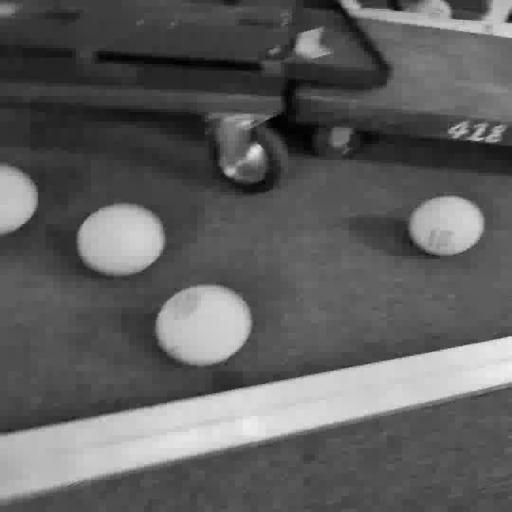fuel: (155, 285, 252, 366), (77, 204, 165, 275), (408, 196, 485, 256), (0, 165, 37, 234)
